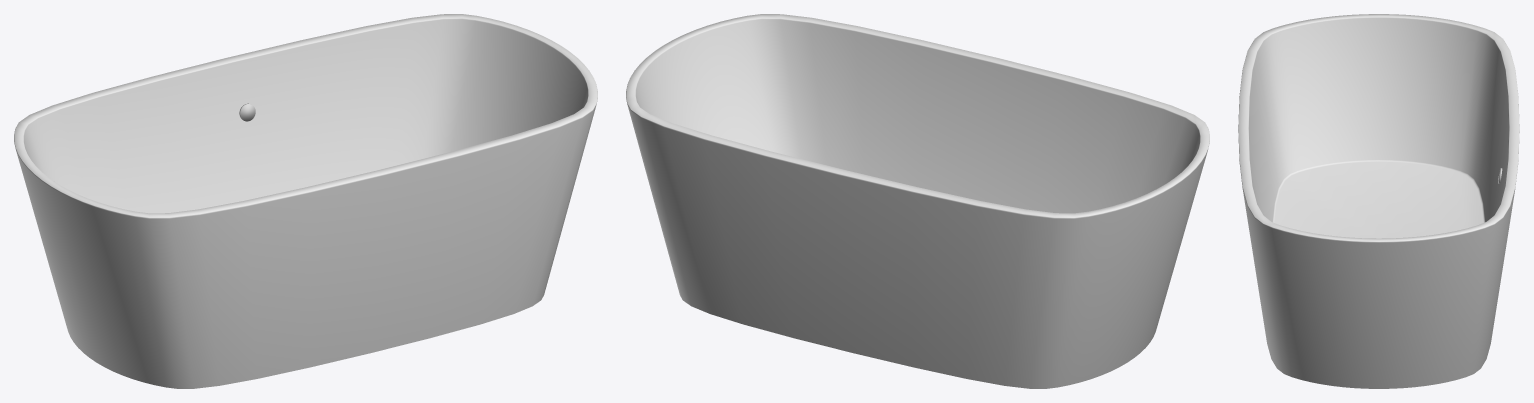
The model's file is BathTub04.fbx.
3 views of the same model, side by side, from view 1: azimuth 30°, elevation 25°; view 2: azimuth 150°, elevation 25°; view 3: azimuth 270°, elevation 25° (orthographic). The views are drawn at different scales.
Parts seen in each view (by area): view 1: Bathtub04; view 2: Bathtub04; view 3: Bathtub04.
Part boxes in pixels (x1=…): Bathtub04: x1=14, y1=14, x2=597, y2=388; Bathtub04: x1=626, y1=14, x2=1209, y2=388; Bathtub04: x1=1238, y1=14, x2=1519, y2=388.
Bounding box in the file's own units: 150 × 51.59 × 78.36.
